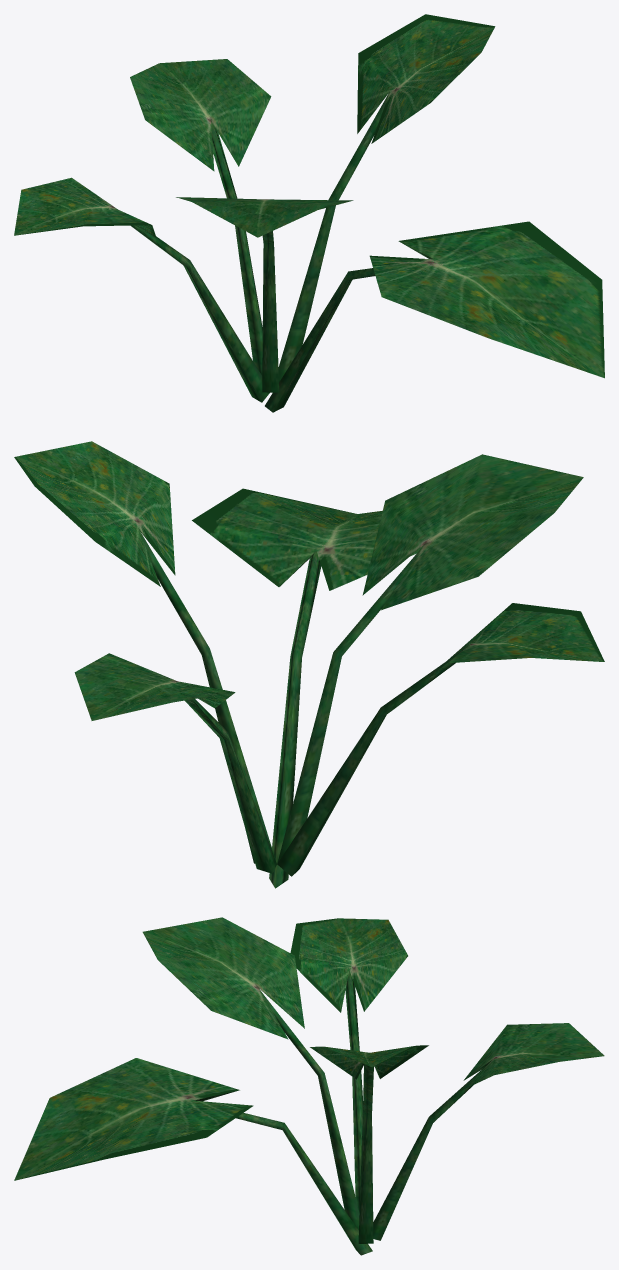
The model's file is leaf_giantpalm_med_l2.fbx.
3 views of the same model, one above another, from view 1: azimuth 30°, elevation 25°; view 2: azimuth 150°, elevation 25°; view 3: azimuth 270°, elevation 25° (orthographic). The views are drawn at different scales.
Parts seen in each view (by area): view 1: mesh_node; view 2: mesh_node; view 3: mesh_node.
Part boxes in pixels (x1,y1,x2,y2): mesh_node: (14,14,604,412); mesh_node: (14,441,604,888); mesh_node: (14,917,604,1255).
Size of the model in its own units: 2.97 by 1.86 by 3.49.
